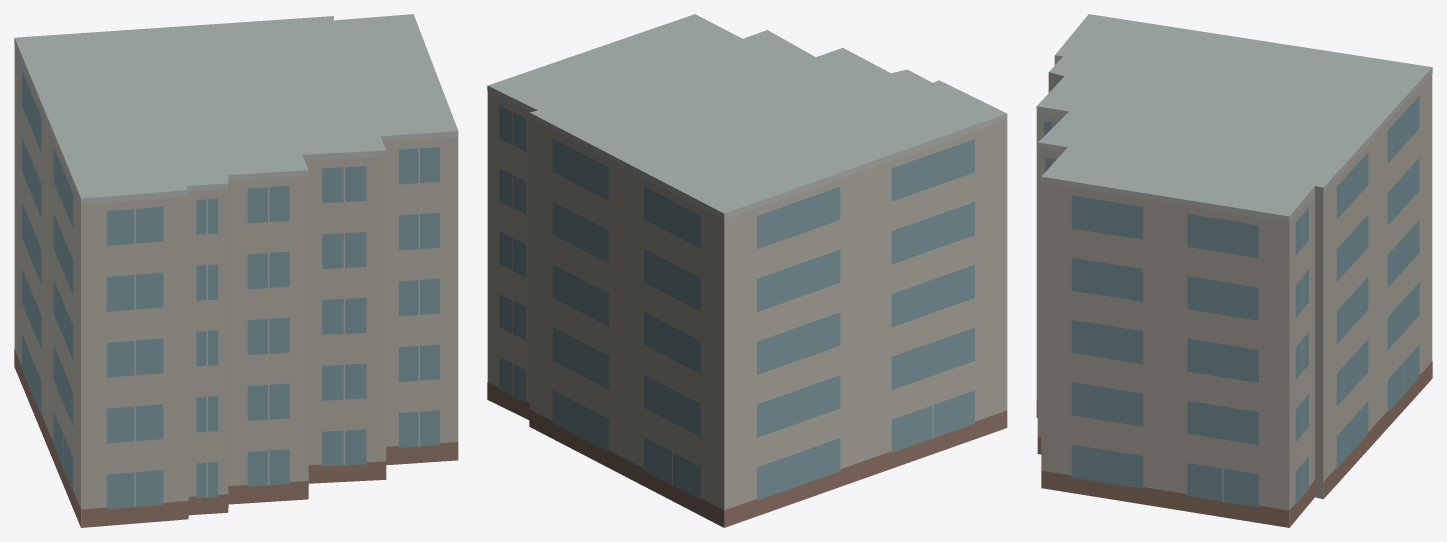
Rendered from survey-upis-32517746.glb.
3 renders of one model, left to right at view 1: azimuth 30°, elevation 25°; view 2: azimuth 150°, elevation 25°; view 3: azimuth 270°, elevation 25°, orthographic. The views are drawn at different scales.
Visible parts, largest first — view 1: survey-upis-32517746.tmp; view 2: survey-upis-32517746.tmp; view 3: survey-upis-32517746.tmp.
Part boxes in pixels (x1=…): survey-upis-32517746.tmp: x1=14, y1=14, x2=458, y2=527; survey-upis-32517746.tmp: x1=487, y1=14, x2=1007, y2=527; survey-upis-32517746.tmp: x1=1036, y1=14, x2=1432, y2=527.
Bounding box in the file's own units: 18.41 × 13.2 × 15.22.
